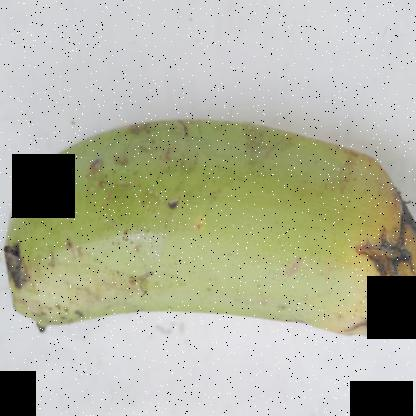rotten: (303, 135, 415, 343)
unripe: (0, 97, 342, 372)
